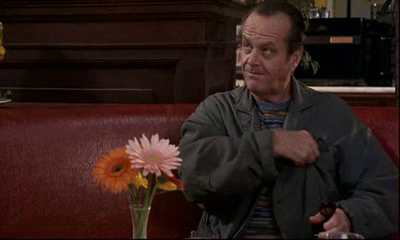face: (240, 18, 287, 93)
ms: (1, 1, 400, 240)
person: (178, 1, 400, 240)
